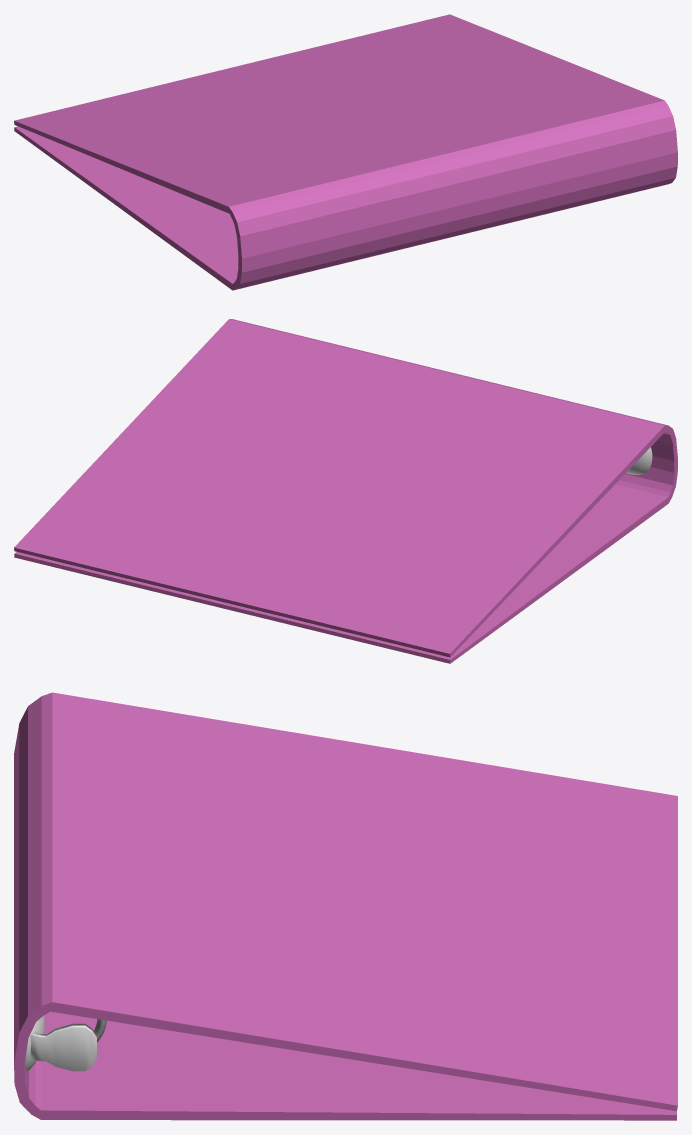
The model's file is binder.fbx.
The picture shows the model from 3 angles, top to bottom: view 1: azimuth 30°, elevation 25°; view 2: azimuth 150°, elevation 25°; view 3: azimuth 270°, elevation 25°; orthographic projection. The views are drawn at different scales.
Parts seen in each view (by area): view 1: binder; view 2: binder; view 3: binder, Cube.
Part boxes in pixels (bbox=[...]): binder: bbox=[14, 14, 677, 290]; binder: bbox=[14, 319, 677, 663]; binder: bbox=[14, 692, 677, 1120]; Cube: bbox=[30, 1023, 96, 1071].
Size of the model in its own units: 842 by 150 by 763.
